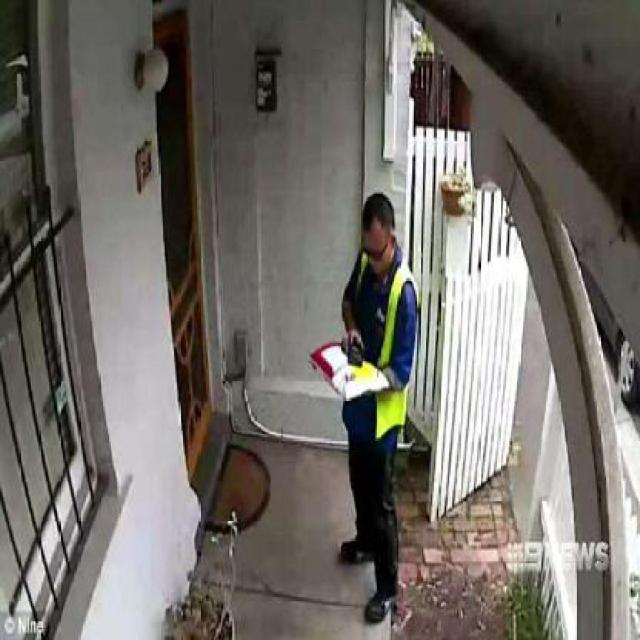person: (335, 200, 419, 640)
